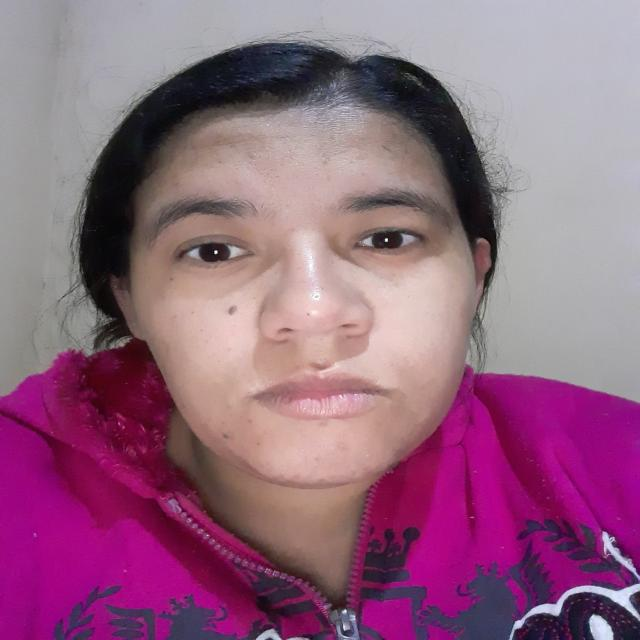Acne: (266, 468, 303, 480), (316, 419, 336, 432), (333, 440, 351, 453), (363, 451, 382, 460), (419, 411, 431, 425), (309, 454, 326, 463)
Englarged-Pores: (295, 258, 332, 302), (246, 156, 284, 182), (319, 158, 340, 180), (300, 162, 322, 177)
